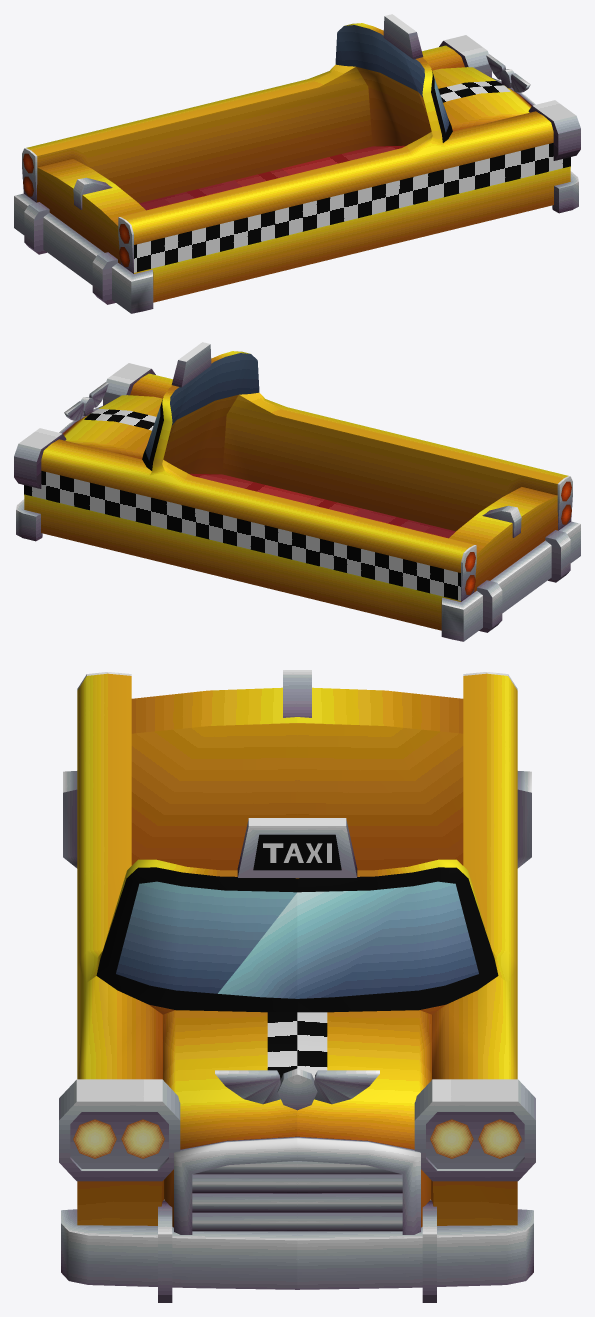
The model's file is newYork01.glb.
3 views of the same model, one above another, from view 1: azimuth 30°, elevation 25°; view 2: azimuth 150°, elevation 25°; view 3: azimuth 270°, elevation 25° (orthographic). The views are drawn at different scales.
Parts seen in each view (by area): view 1: newYork01; view 2: newYork01; view 3: newYork01.
Boxes of the visible parts, x1,y1,x2,y2 form: newYork01: (14,14,580,313); newYork01: (14,342,580,641); newYork01: (59,670,535,1302).
Size of the model in its own units: 10.55 by 3.86 by 4.66.
1 material, 1 textured.
